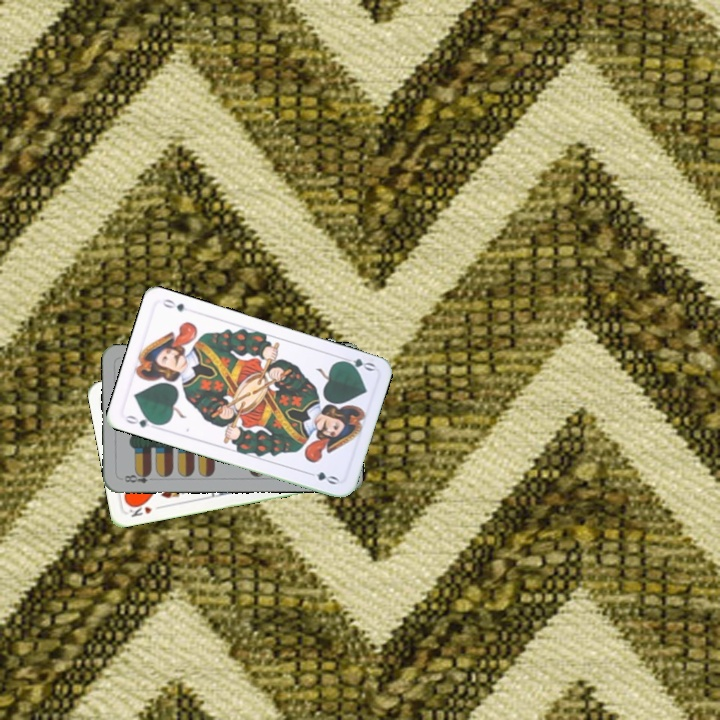E8: (120, 468, 153, 485)
GO: (336, 353, 378, 374), (121, 411, 161, 430)
HK: (125, 498, 165, 519)
